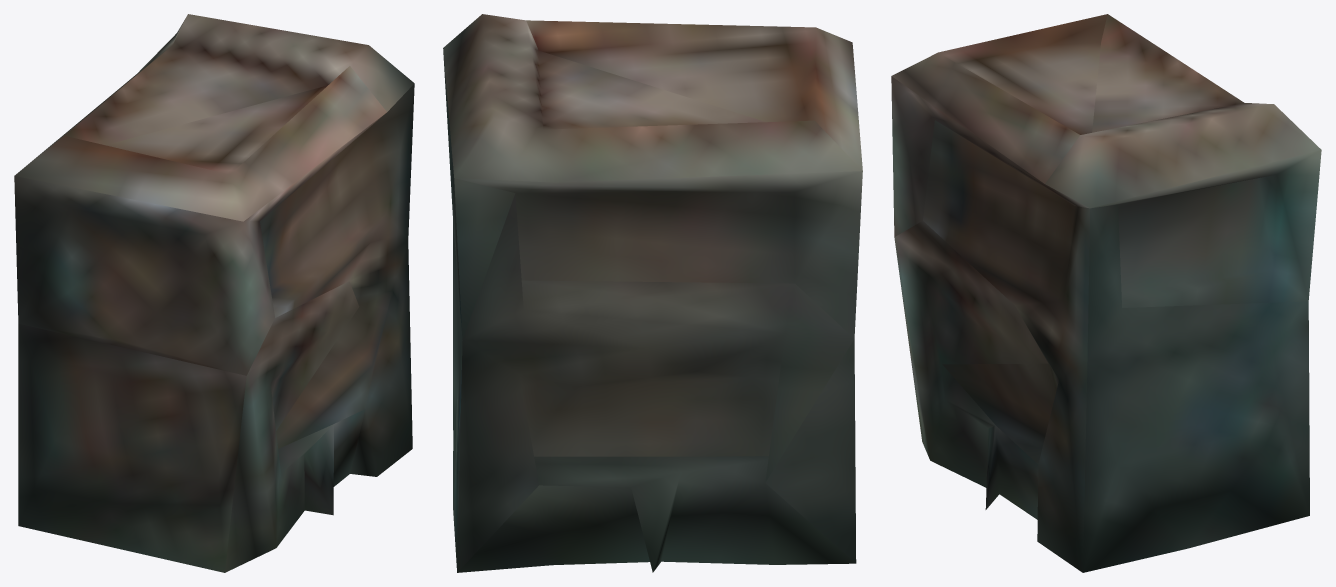
Rendered from Muebel_Lado_Golem.glb.
3 views of the same model, side by side, from view 1: azimuth 30°, elevation 25°; view 2: azimuth 150°, elevation 25°; view 3: azimuth 270°, elevation 25° (orthographic). The views are drawn at different scales.
Visible parts, largest first — view 1: Muebel Lado Golem; view 2: Muebel Lado Golem; view 3: Muebel Lado Golem.
Part boxes in pixels (box(x1,y1,x2,y2)): Muebel Lado Golem: box(14, 14, 414, 572); Muebel Lado Golem: box(443, 14, 862, 572); Muebel Lado Golem: box(891, 14, 1321, 572).
Bounding box in the file's own units: 0.0586 × 0.0587 × 0.0554.
Materials: 1 (1 with a texture image).
